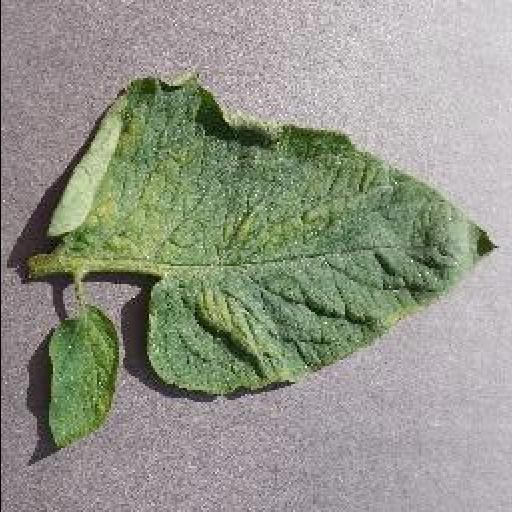disease_tomato: (46, 69, 500, 395), (42, 304, 122, 458)
